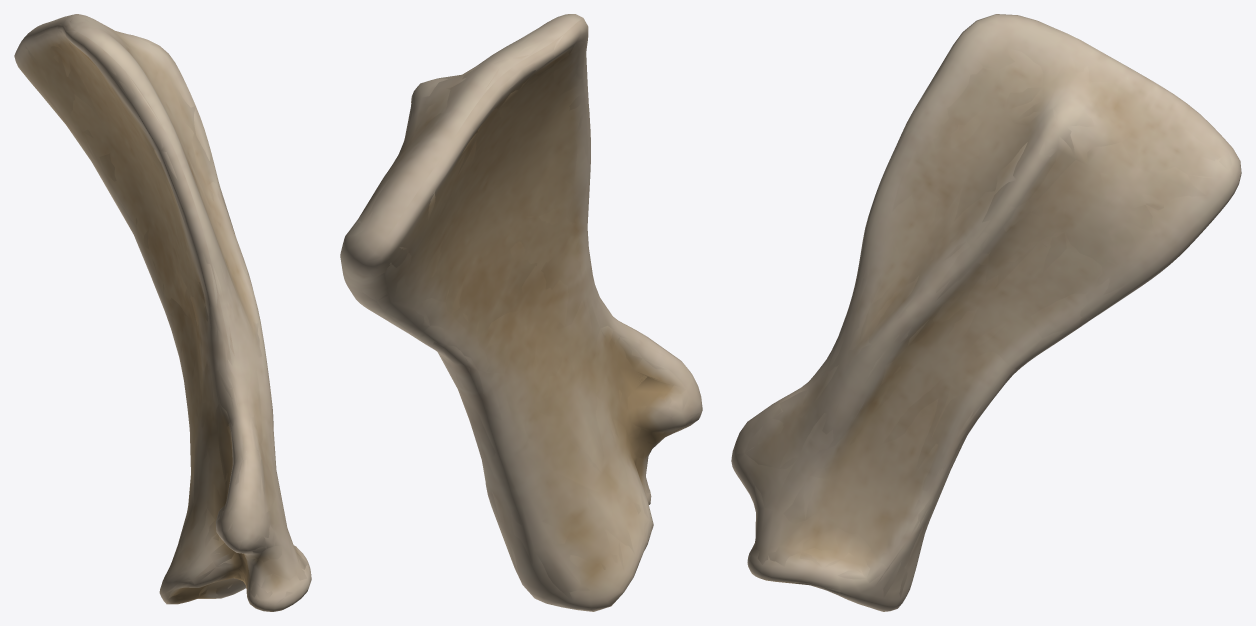
Rendered from L Scapula.fbx.
The picture shows the model from 3 angles, left to right: view 1: azimuth 30°, elevation 25°; view 2: azimuth 150°, elevation 25°; view 3: azimuth 270°, elevation 25°; orthographic projection. The views are drawn at different scales.
Visible parts, largest first — view 1: L Scapula, L Scapula low; view 2: L Scapula low, L Scapula; view 3: L Scapula, L Scapula low.
Part boxes in pixels (x1,y1,x2,y2): L Scapula: (14,14,311,611); L Scapula low: (23,14,307,605); L Scapula low: (348,20,702,611); L Scapula: (340,14,702,611); L Scapula: (731,14,1241,611); L Scapula low: (733,22,1240,607).
Size of the model in its own units: 9.55 by 37.16 by 30.78.
1 material, 1 textured.
